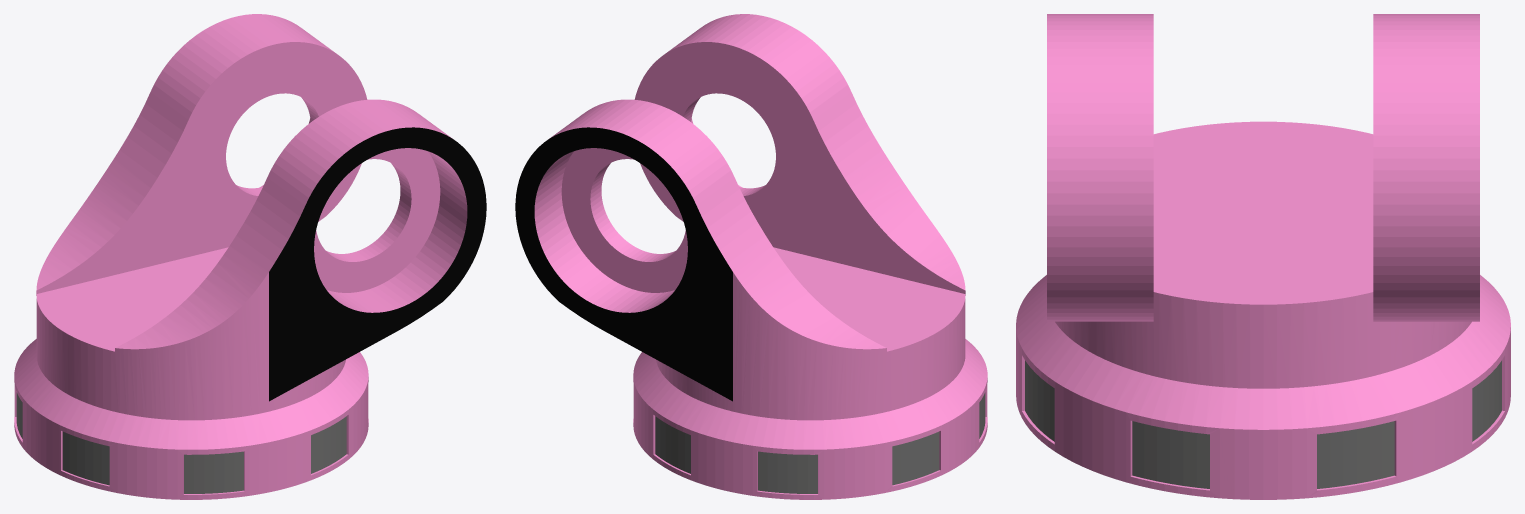
File: Astorino Robot Joint 1.dae
3 views of the same model, side by side, from view 1: azimuth 30°, elevation 25°; view 2: azimuth 150°, elevation 25°; view 3: azimuth 270°, elevation 25° (orthographic). The views are drawn at different scales.
Visible parts, largest first — view 1: Astorino Robot Joint 1; view 2: Astorino Robot Joint 1; view 3: Astorino Robot Joint 1.
Part boxes in pixels (box(x1,y1,x2,y2)): Astorino Robot Joint 1: box(14, 14, 486, 499); Astorino Robot Joint 1: box(515, 14, 987, 499); Astorino Robot Joint 1: box(1016, 14, 1510, 499).
Bounding box in the file's own units: 0.1935 × 0.16 × 0.1605.
